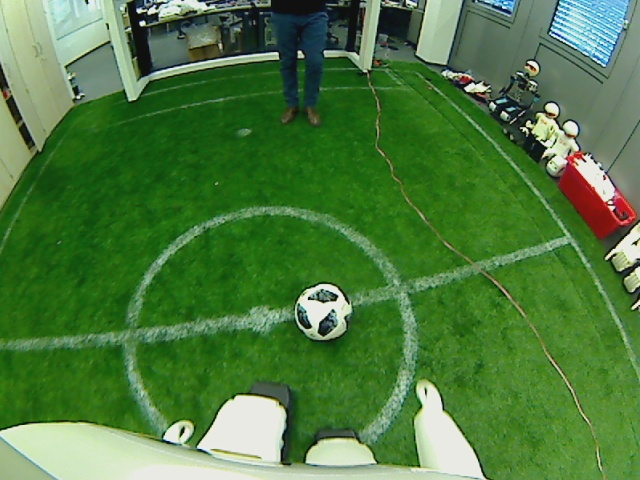ball: (293, 279, 350, 341)
